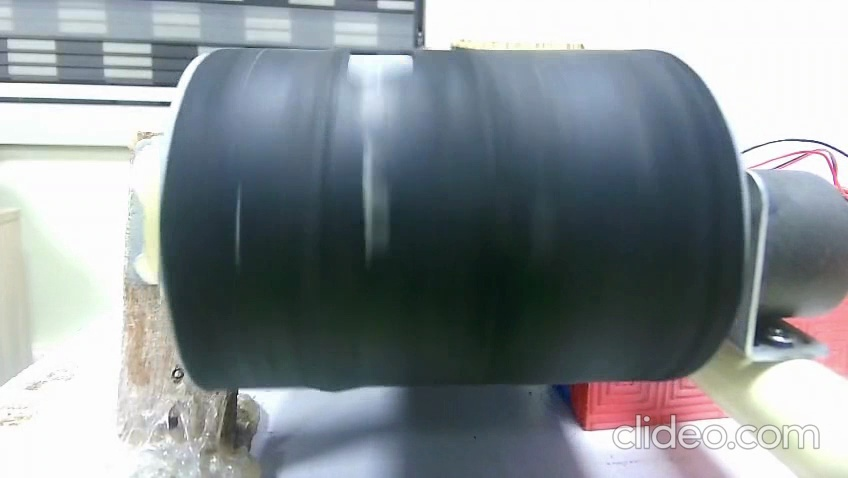hole: (334, 34, 429, 93)
tear: (354, 135, 393, 264), (229, 179, 245, 274)
